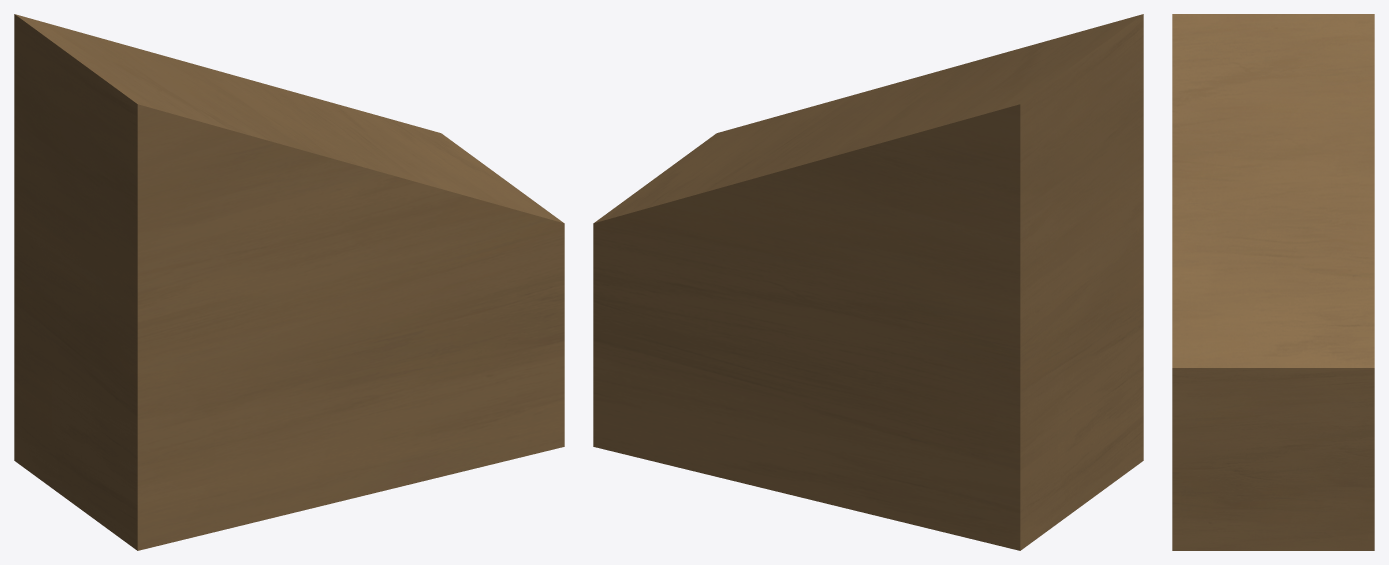
Rendered from 1x2x1Ramp.glb.
3 renders of one model, left to right at view 1: azimuth 30°, elevation 25°; view 2: azimuth 150°, elevation 25°; view 3: azimuth 270°, elevation 25°, orthographic. The views are drawn at different scales.
Visible parts, largest first — view 1: 1x2x1Ramp; view 2: 1x2x1Ramp; view 3: 1x2x1Ramp.
Boxes of the visible parts, x1,y1,x2,y2 form: 1x2x1Ramp: [14, 14, 564, 550]; 1x2x1Ramp: [593, 14, 1143, 550]; 1x2x1Ramp: [1172, 14, 1374, 550].
Bounding box in the file's own units: 4 × 4 × 2.
Materials: 1 (1 with a texture image).
